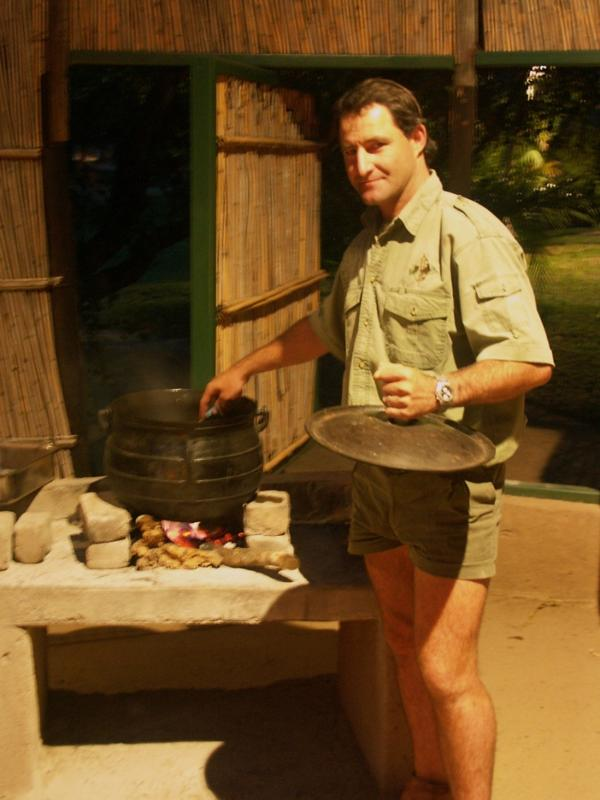person: (203, 81, 558, 799)
